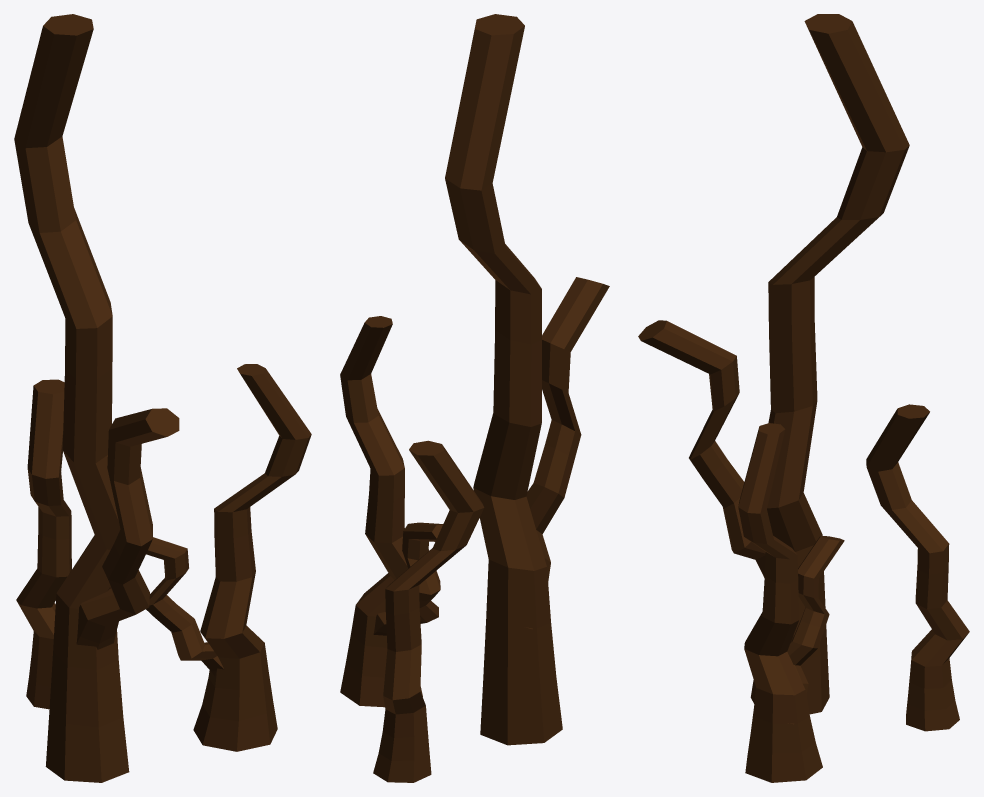
File: RamaV2.fbx
The picture shows the model from 3 angles, left to right: view 1: azimuth 30°, elevation 25°; view 2: azimuth 150°, elevation 25°; view 3: azimuth 270°, elevation 25°; orthographic projection. The views are drawn at different scales.
Parts seen in each view (by area): view 1: RamaV2; view 2: RamaV2; view 3: RamaV2.
Part boxes in pixels (x1=…): RamaV2: x1=14, y1=14, x2=311, y2=782; RamaV2: x1=340, y1=14, x2=609, y2=782; RamaV2: x1=638, y1=14, x2=969, y2=782.
Size of the model in its own units: 10.26 by 30.42 by 13.49.
